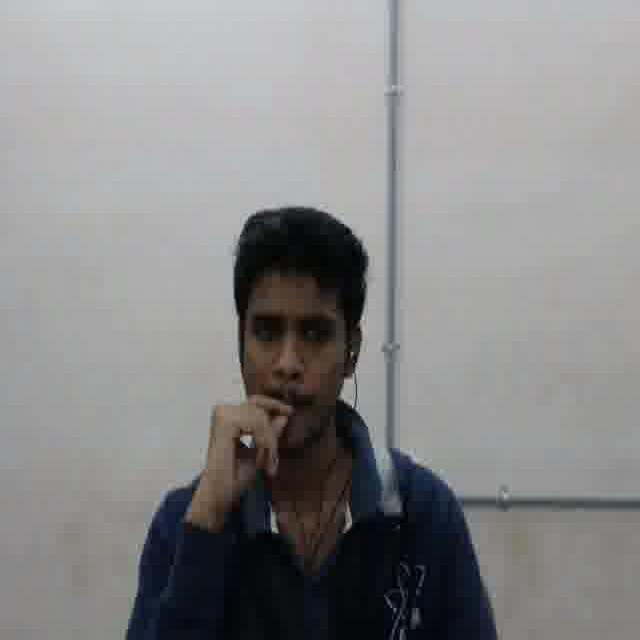Frustration: (238, 266, 342, 434)
